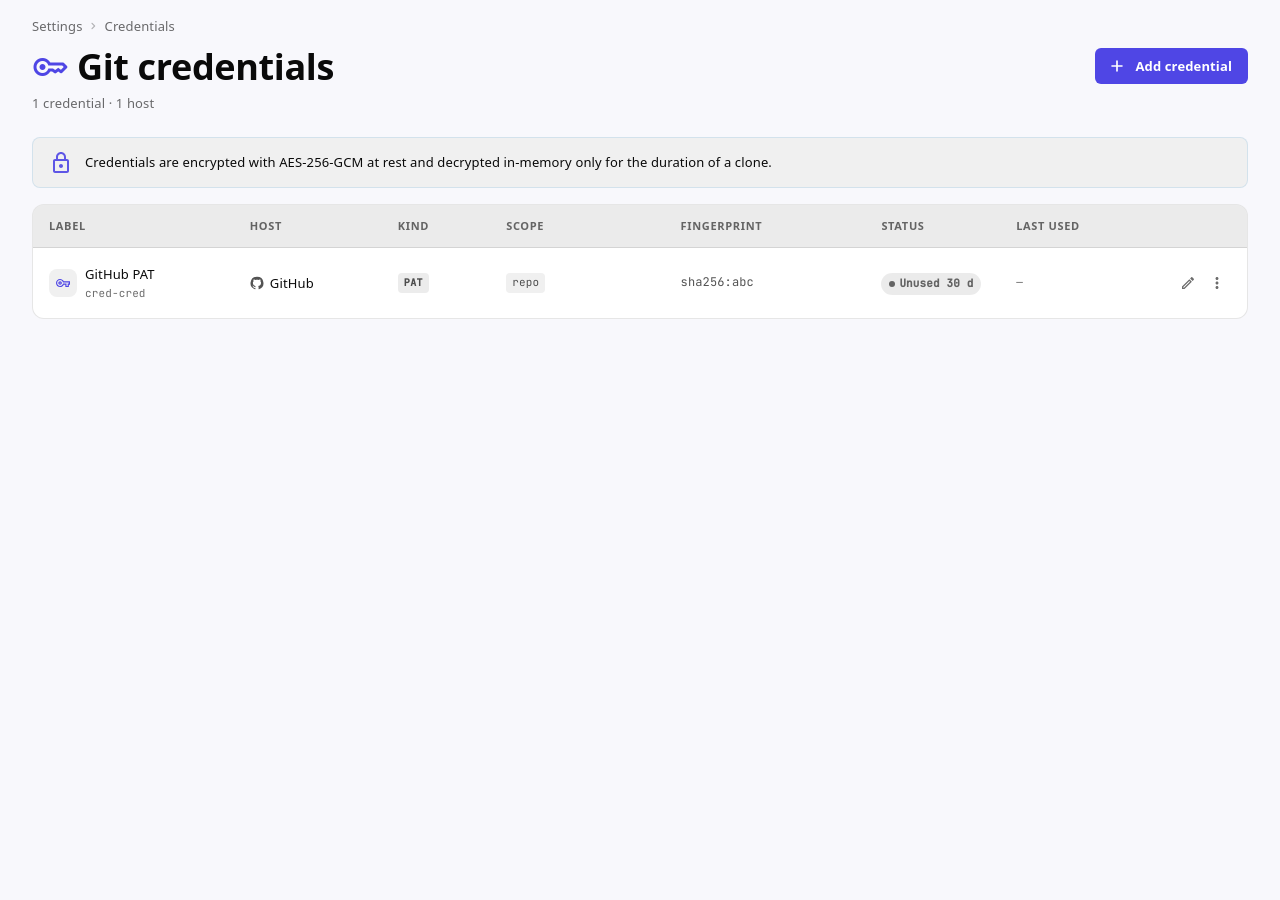
Credentials page › Cancel button in delete dialog closes via setDeleteId(null)
This screenshot has width=1280, height=900.
Expected: the text "GitHub PAT" is shown, [85,264,155,285]
Click the button named "Credential actions": (1217,283) [1203,269,1231,297]
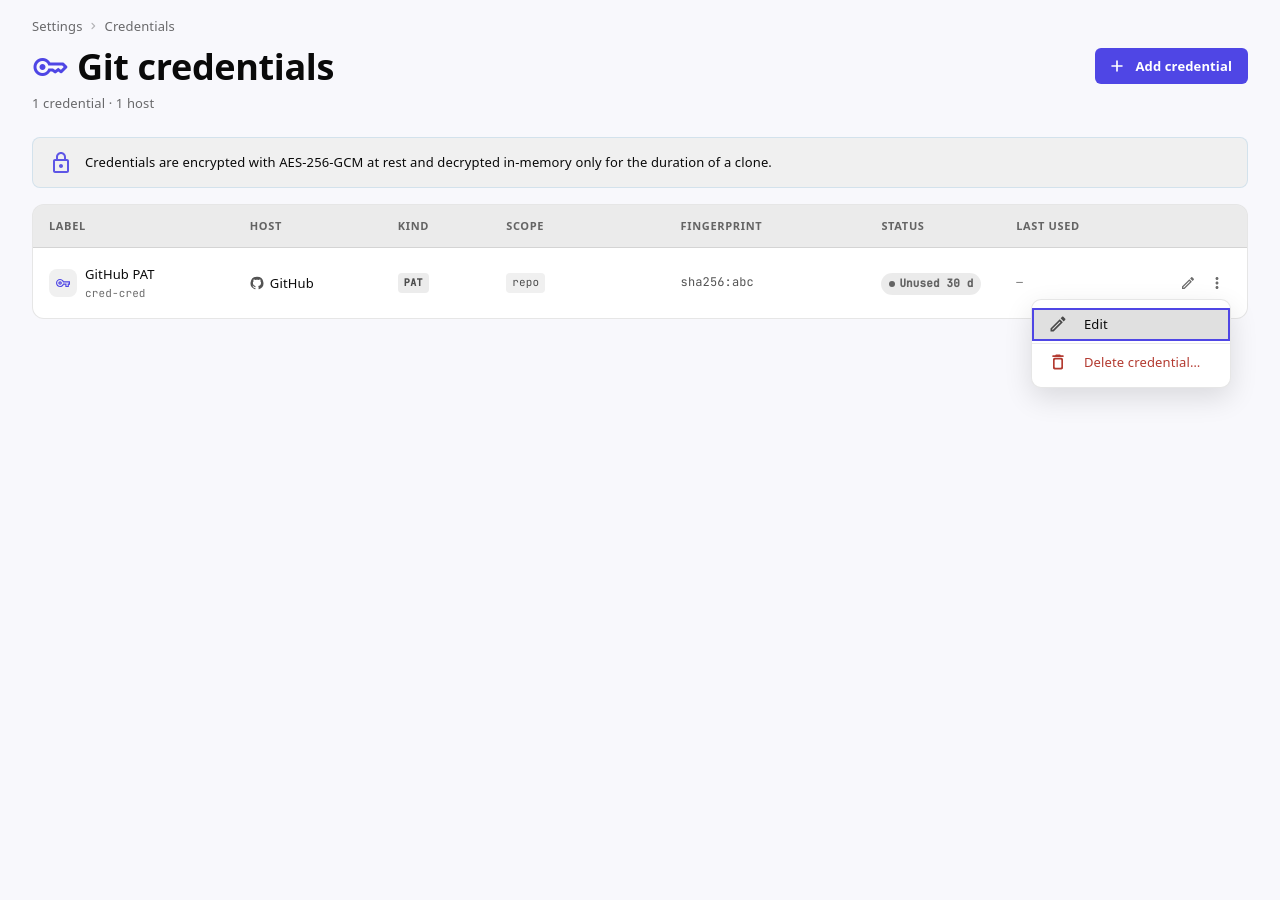
Result: the menu item "Delete credential…" is shown
Click the menu item "Delete credential…": (1124,362) [1048,352,1200,372]
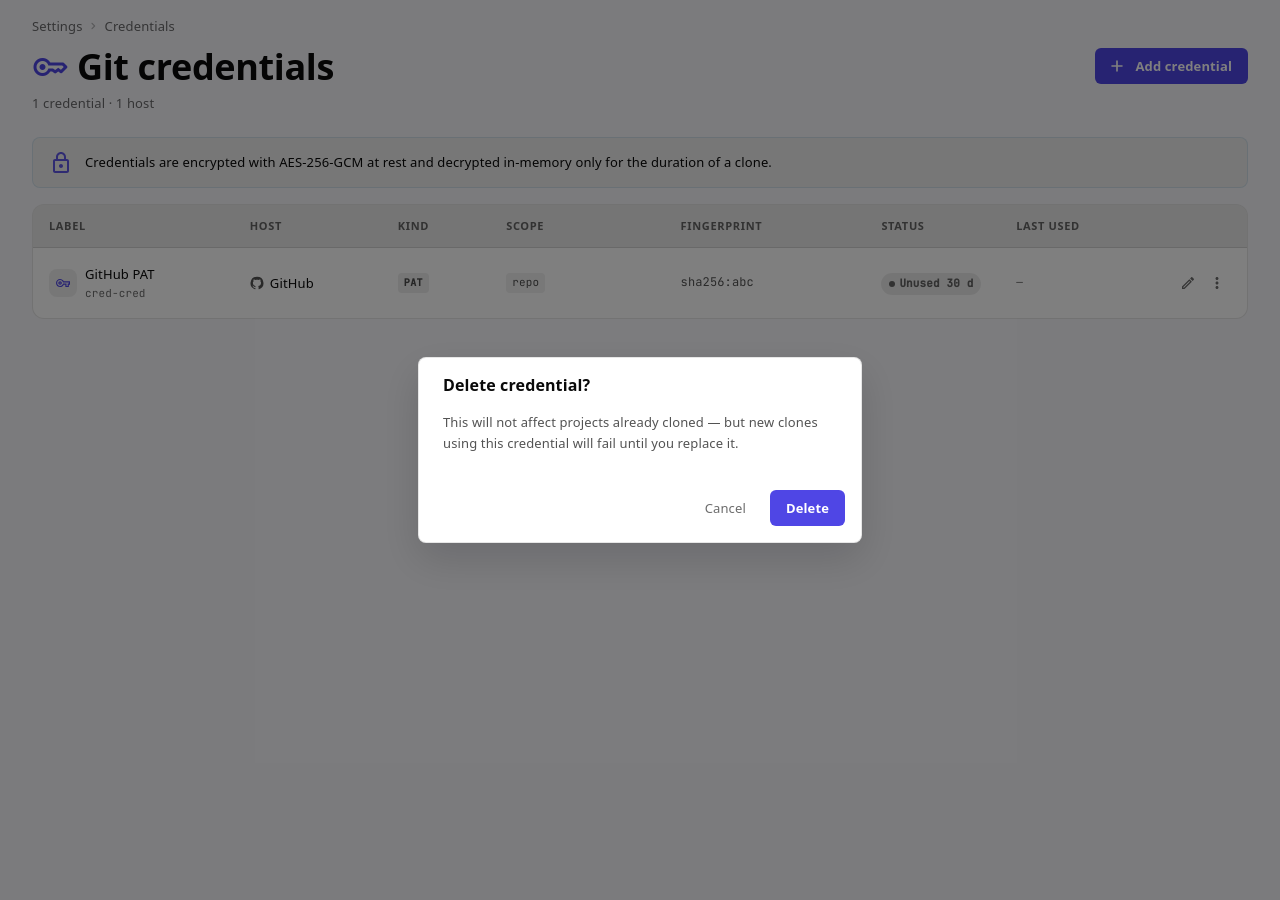
Result: the heading "Delete credential?" is shown at [443,374,590,396]
Click the button "Cancel": (725,508) [689,490,762,526]
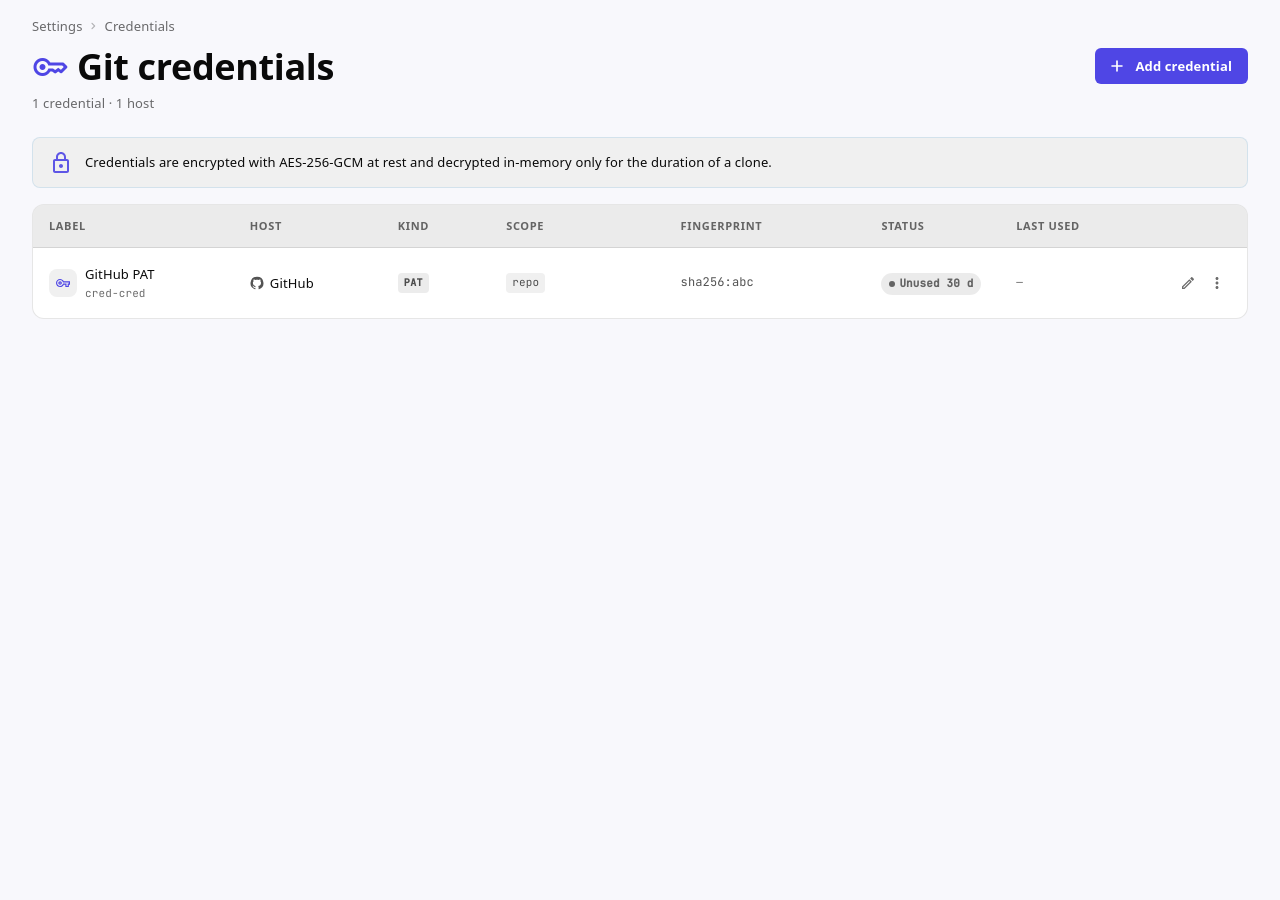
Result: the heading "Delete credential?" is gone
